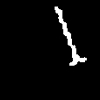half_double_crochet: (55, 7, 86, 64)
